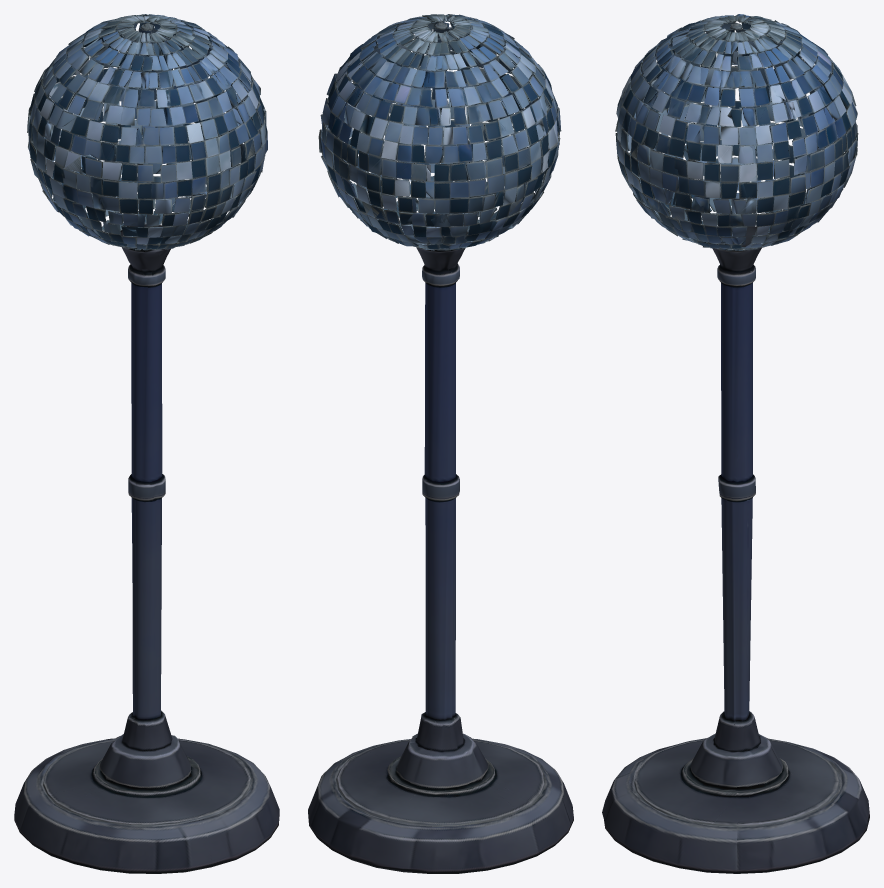
The model's file is discoball_opt.glb.
3 renders of one model, left to right at view 1: azimuth 30°, elevation 25°; view 2: azimuth 150°, elevation 25°; view 3: azimuth 270°, elevation 25°, orthographic.
Parts seen in each view (by area): view 1: geometry_0; view 2: geometry_0; view 3: geometry_0.
Boxes of the visible parts, x1,y1,x2,y2 form: geometry_0: [14, 14, 279, 873]; geometry_0: [308, 14, 573, 873]; geometry_0: [602, 14, 869, 873].
Bounding box in the file's own units: 0.2886 × 0.9517 × 0.2906.
1 material, 1 textured.
